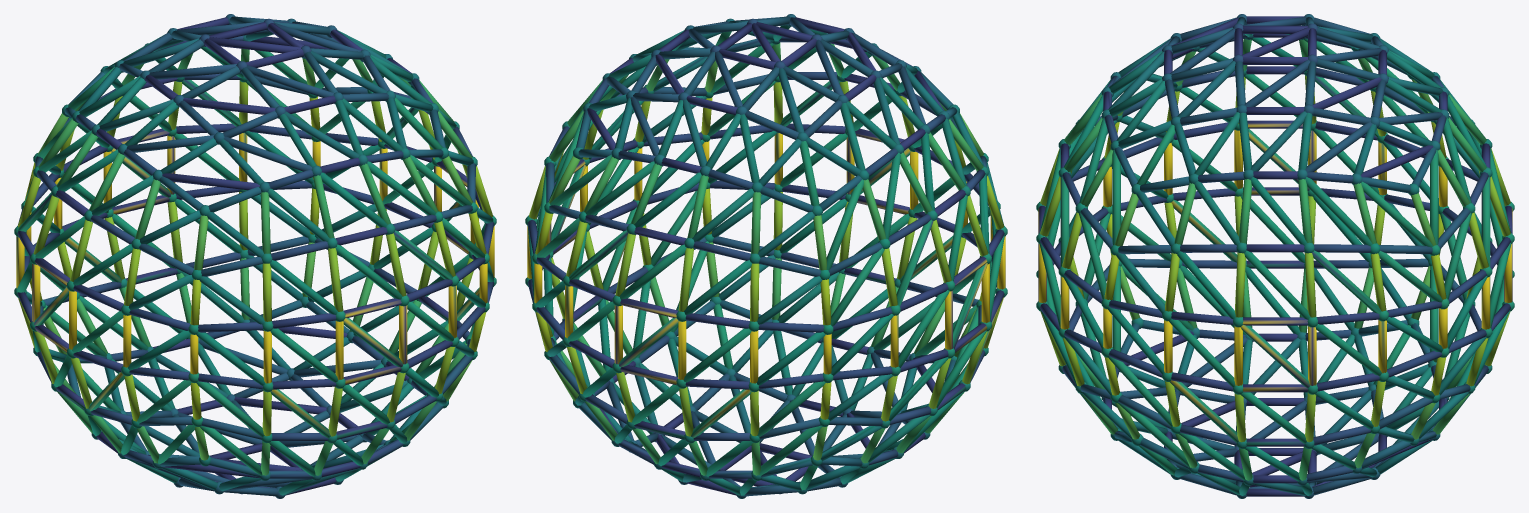
3 views of the same model, side by side, from view 1: azimuth 30°, elevation 25°; view 2: azimuth 150°, elevation 25°; view 3: azimuth 270°, elevation 25° (orthographic).
Parts seen in each view (by area): view 1: sphere_surface_frame_n06; view 2: sphere_surface_frame_n06; view 3: sphere_surface_frame_n06.
Boxes of the visible parts, box(x1,y1,x2,y2) form: sphere_surface_frame_n06: box(14, 14, 496, 498); sphere_surface_frame_n06: box(525, 14, 1007, 498); sphere_surface_frame_n06: box(1036, 14, 1514, 498).
Bounding box in the file's own units: 100 × 100 × 100.
